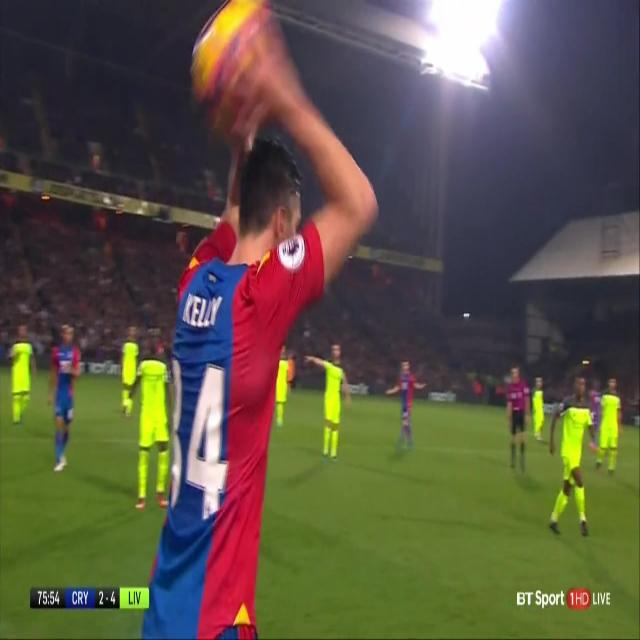Ball: (188, 1, 285, 140)
Player: (140, 31, 383, 639), (548, 375, 595, 542), (134, 346, 172, 515), (304, 340, 354, 460), (48, 317, 80, 474), (384, 357, 427, 456), (5, 322, 37, 432), (596, 374, 624, 478), (118, 328, 139, 417), (530, 375, 548, 444), (275, 344, 288, 432)
Referee: (504, 364, 531, 476)
